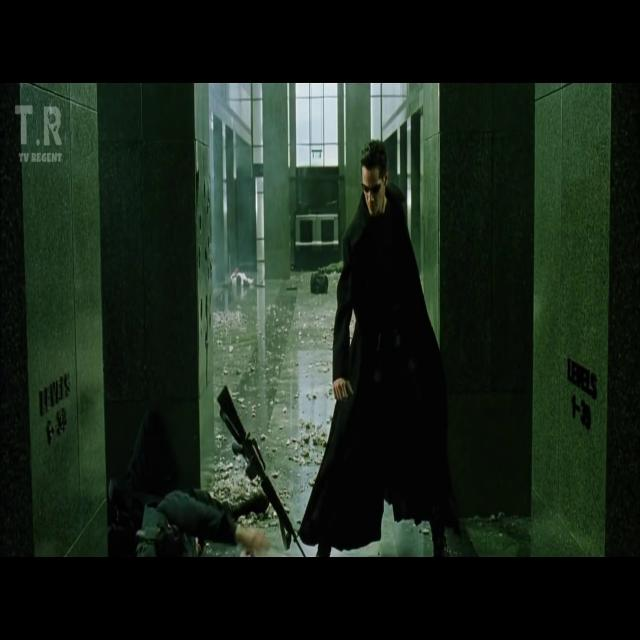long weapon: (210, 378, 317, 565)
